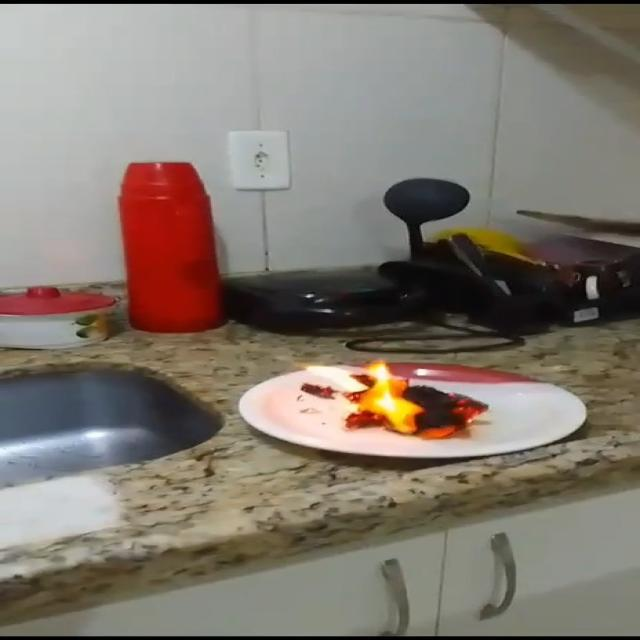fogo-ypXI: (299, 358, 491, 442)
